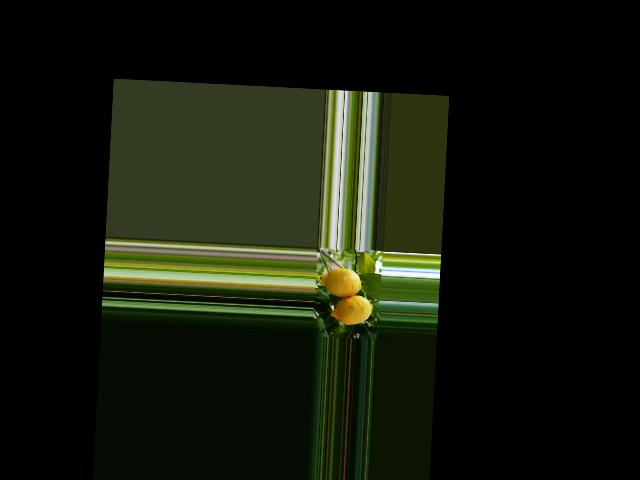lemon: (319, 264, 365, 299)
